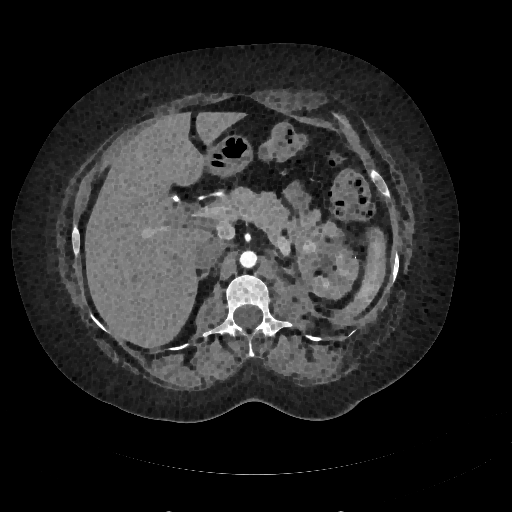Lesion: (301, 236, 318, 256)
